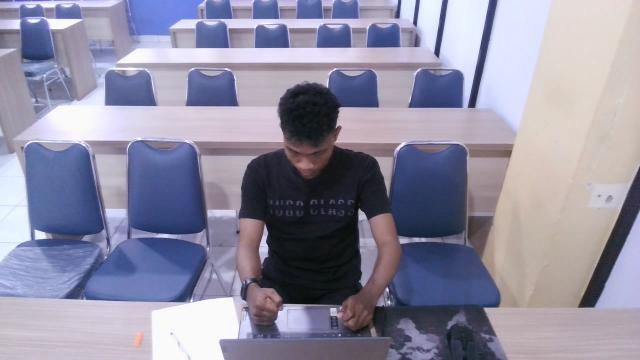Head_Down_Extreme: (240, 73, 376, 239)
